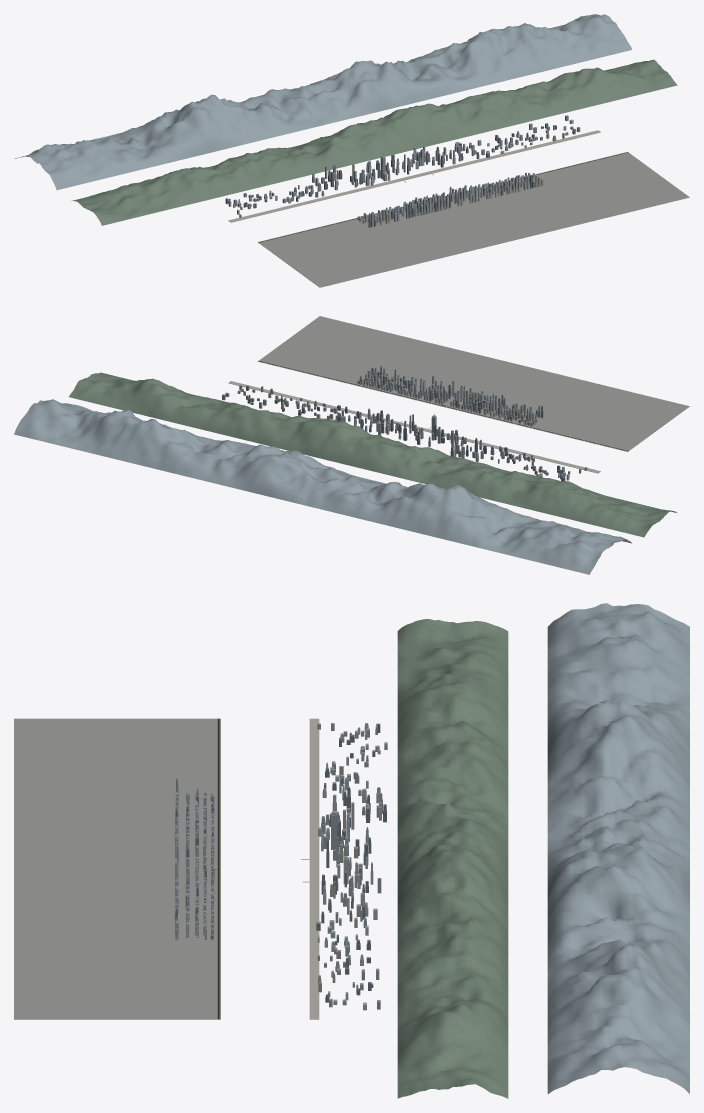
File: city.glb
3 renders of one model, top to bottom at view 1: azimuth 30°, elevation 25°; view 2: azimuth 150°, elevation 25°; view 3: azimuth 270°, elevation 25°, orthographic. The views are drawn at different scales.
Visible parts, largest first — view 1: ridge_far, ridge_near, ground_ours, shore_far; view 2: ridge_far, ridge_near, ground_ours, shore_far, highway, promenade; view 3: ridge_far, ground_ours, ridge_near, shore_far, highway.
Part boxes in pixels (box(x1,y1,x2,y2)): ridge_far: box(14, 14, 632, 190); ridge_near: box(70, 59, 677, 225); ground_ours: box(259, 152, 689, 287); shore_far: box(228, 130, 600, 222); ridge_far: box(14, 399, 631, 574); ridge_near: box(69, 372, 676, 537); ground_ours: box(259, 316, 689, 451); shore_far: box(228, 381, 600, 473); highway: box(258, 361, 627, 451); promenade: box(258, 361, 627, 451); ridge_far: box(547, 603, 689, 1093); ground_ours: box(14, 718, 219, 1019); ridge_near: box(397, 619, 508, 1098); shore_far: box(309, 718, 319, 1019); highway: box(217, 718, 219, 1019).
Bounding box in the file's own units: 14000 × 902 × 8552.
Materials: 19 (8 with a texture image).
